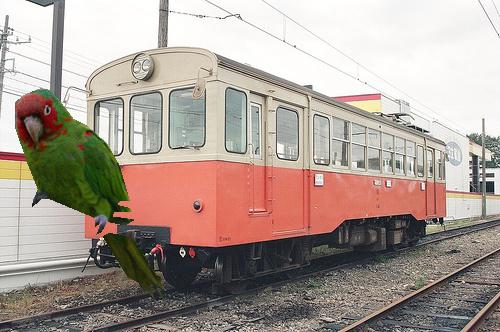tampered: (16, 89, 166, 302)
